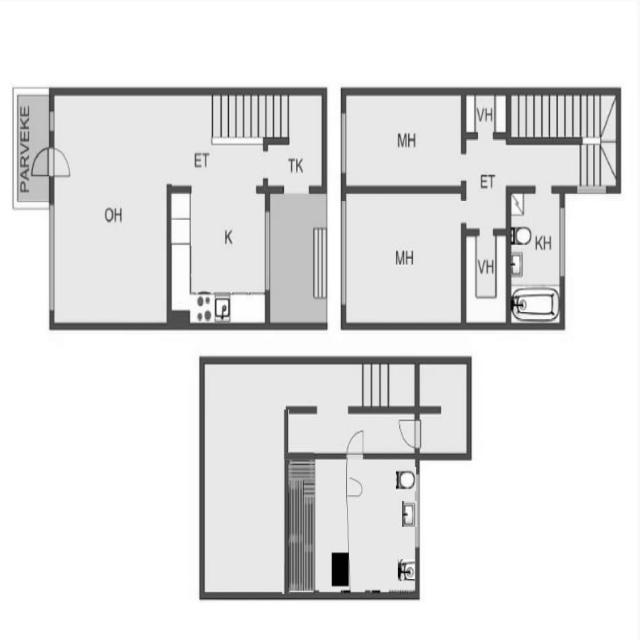door: (26, 145, 74, 180), (397, 414, 421, 451), (344, 426, 366, 460), (344, 472, 365, 502), (478, 227, 495, 260)
window: (339, 198, 349, 308), (48, 204, 58, 312), (262, 204, 273, 295), (557, 200, 568, 279), (338, 108, 349, 175), (413, 470, 422, 549), (574, 182, 612, 198), (46, 106, 56, 137)
zone: (52, 92, 169, 330), (202, 359, 286, 597), (343, 190, 464, 327), (170, 185, 269, 322), (346, 94, 462, 189), (345, 456, 418, 596), (286, 456, 343, 590), (508, 188, 563, 325), (418, 362, 469, 454), (467, 234, 505, 322), (266, 139, 322, 193), (464, 90, 506, 134)
